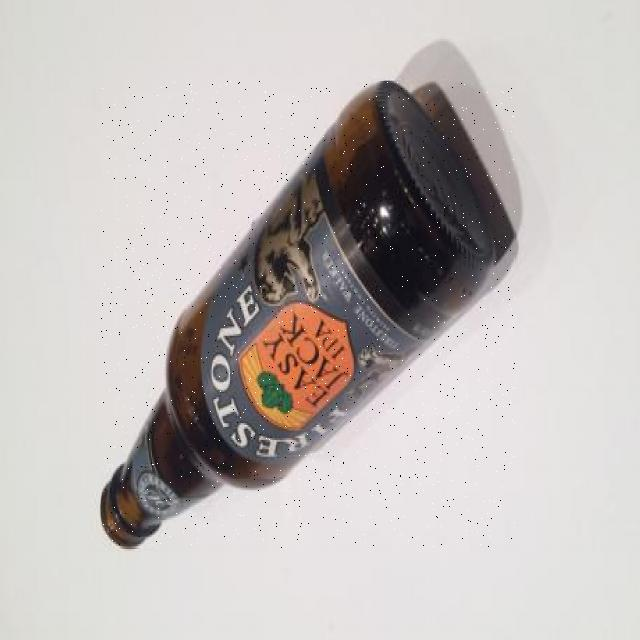glass: (101, 82, 515, 548)
